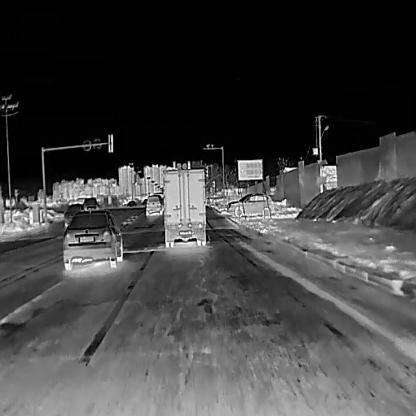car: (61, 209, 123, 270), (225, 192, 274, 218), (63, 202, 84, 229), (144, 194, 162, 216), (82, 197, 100, 214)
truck: (161, 167, 207, 248)
